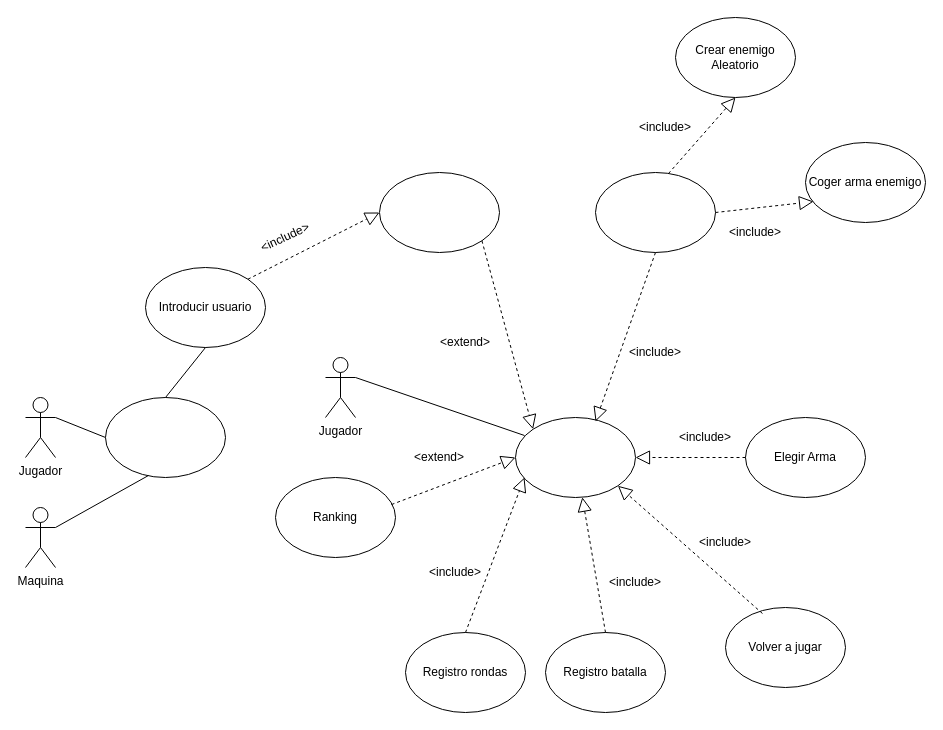
This 943x730 diagram has some shape labels left out. The shapes that lost their labels are listed below. From the top down, each one's centre as x and y in pixels, then its label:
[439,212]: Registrar usuario en base de datos
[655,212]: Elegir Guerrero
[165,437]: Pantalla Inicial
[575,457]: Ventana Lucha
